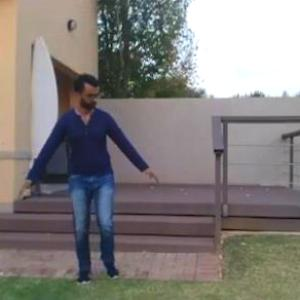land: (17, 62, 156, 284)
